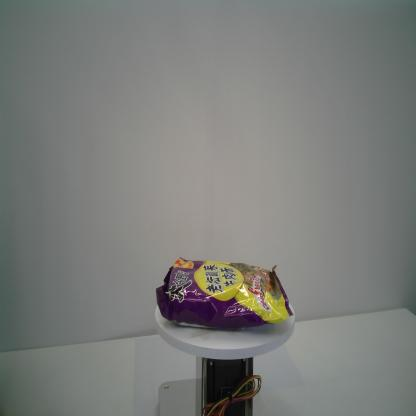Instant Noodles: (155, 257, 294, 330)
